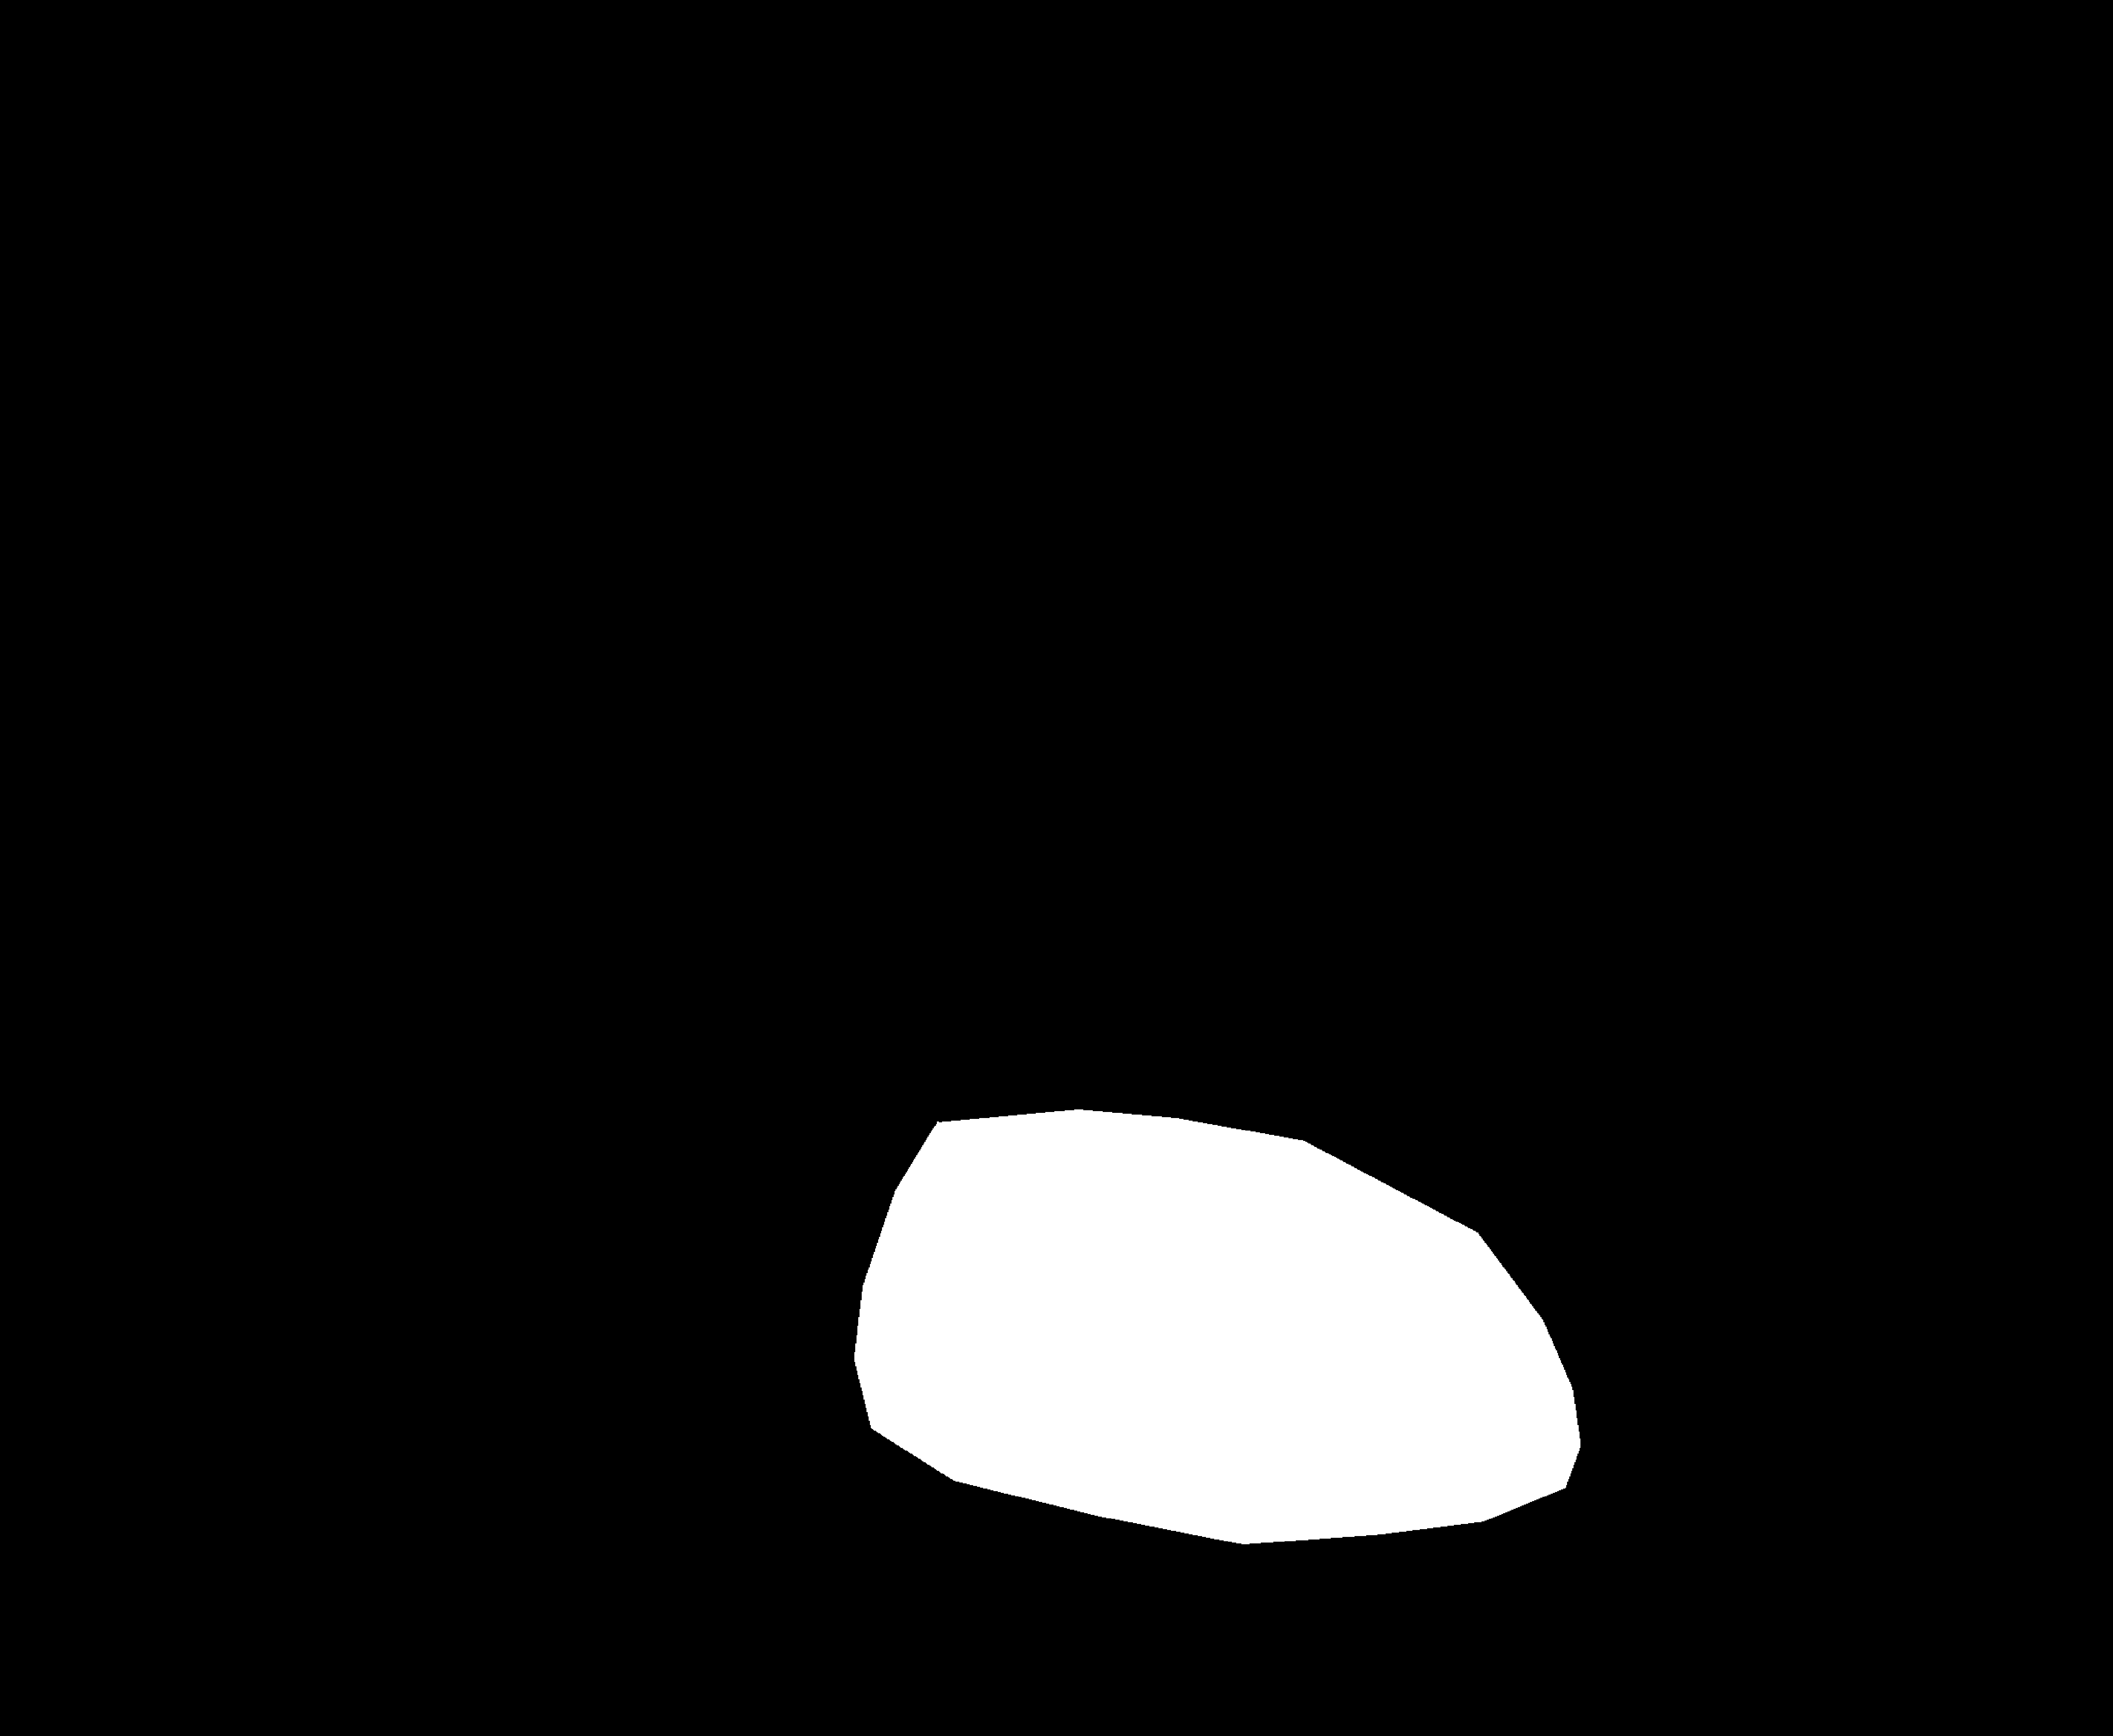heart: (848, 1065, 1572, 1599)
left_lung: (284, 349, 1002, 1620)
right_lung: (1142, 358, 1825, 1629)
